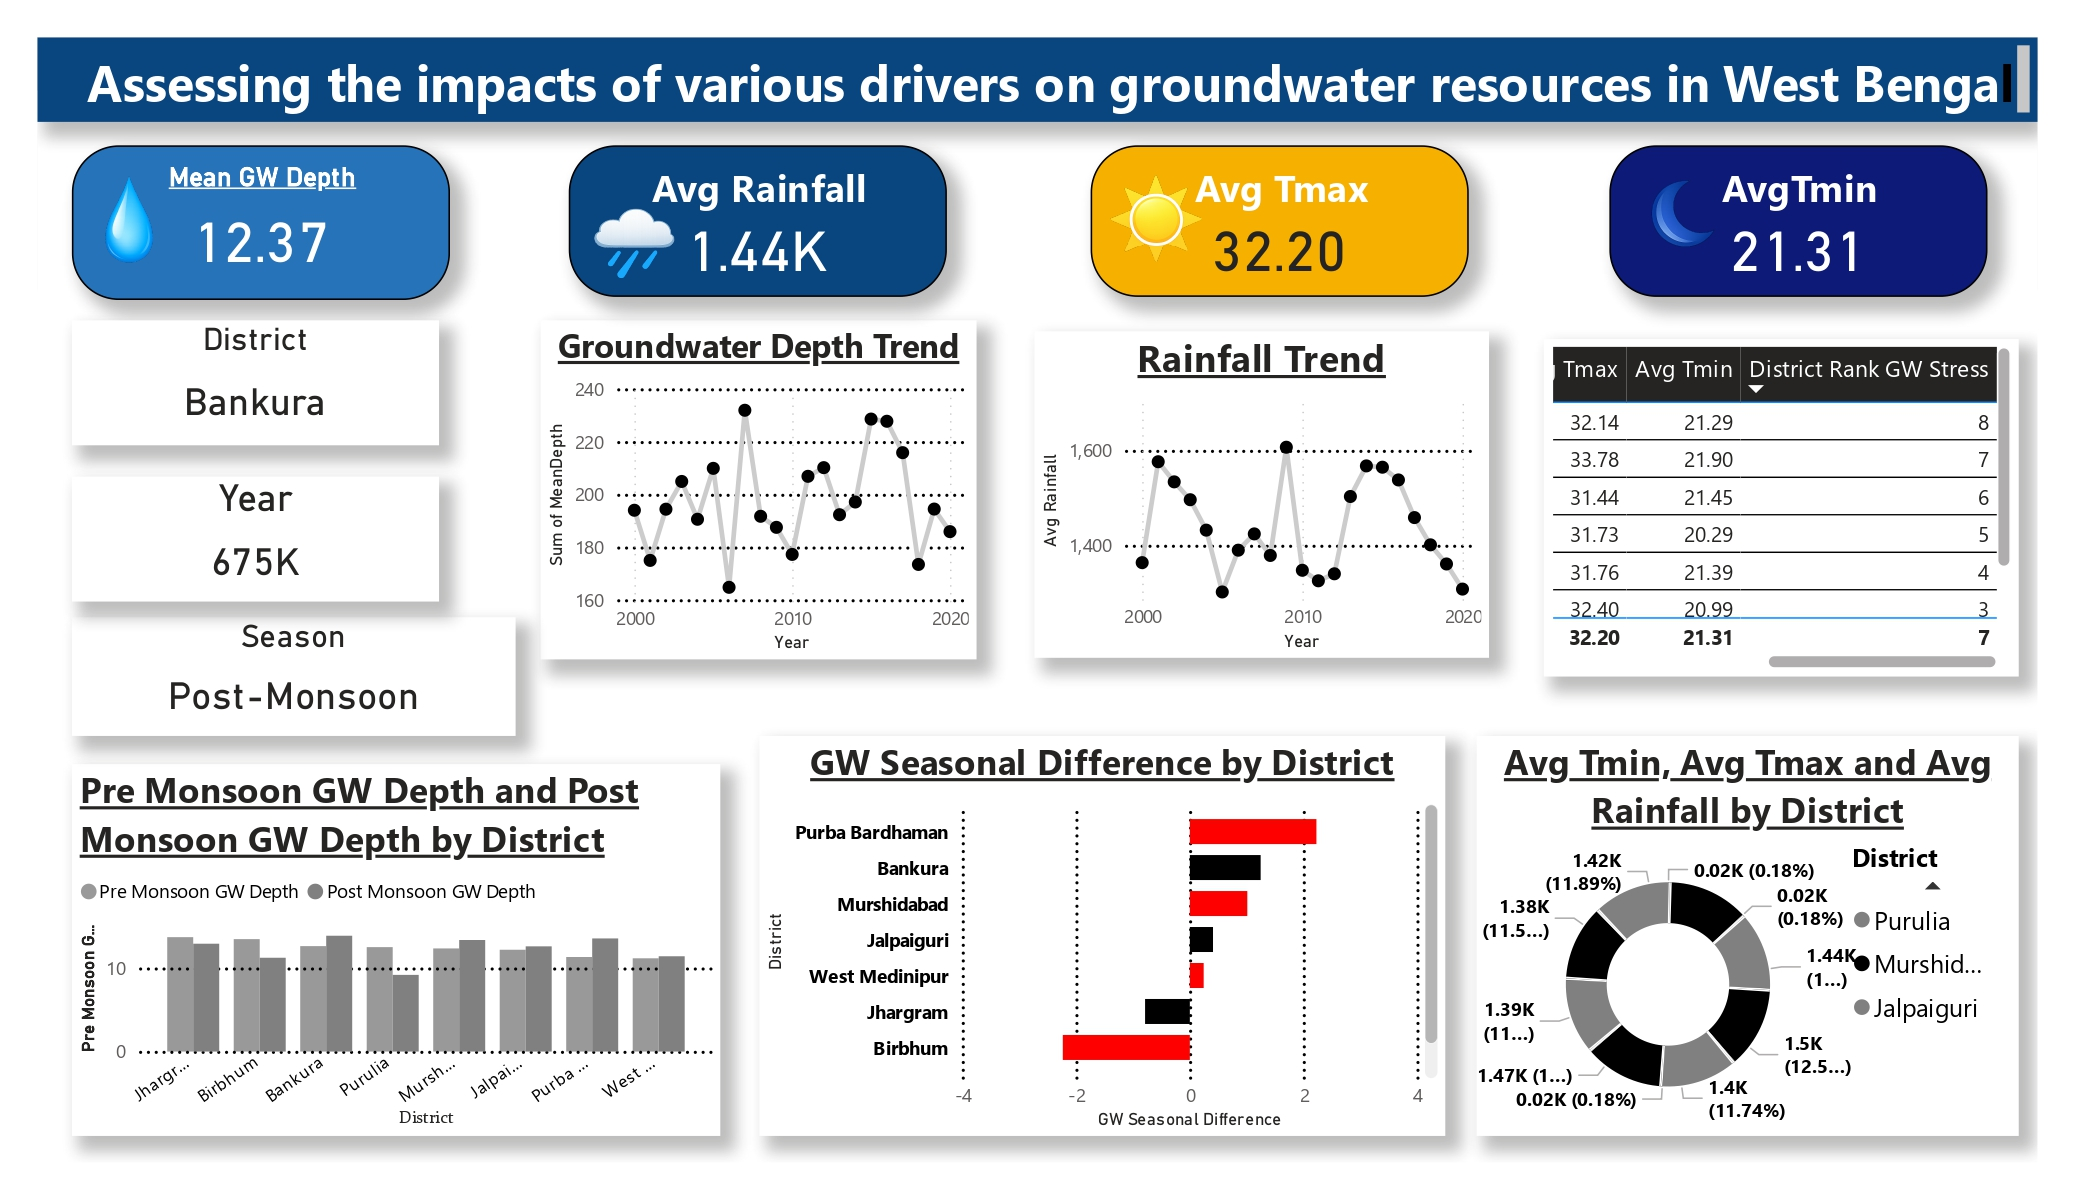

What the dashboard file says about the page in this screenshot:
{"tool":"powerbi","page":{"name":"Page 1","canvas":[1280,720],"ordinal":0},"visuals":[{"type":"lineChart","title":"Groundwater Depth Trend","fields":{"Category":["ground_sql.Year"],"Y":["Sum(ground_sql.MeanDepth)"]},"box":[321.7,181.2,279.4,216.7],"z":0},{"type":"textbox","box":[0,0,1280,54.2],"z":1000},{"type":"card","title":"Mean GW Depth","fields":{"Values":["ground_sql.Mean GW Depth"]},"box":[22,69.4,242.1,98.2],"z":2000},{"type":"image","box":[0,13.5,116.8,208.3],"z":3000},{"type":"card","title":"   Avg Rainfall","fields":{"Values":["ground_sql.Avg Rainfall"]},"box":[340.3,69.4,242.1,96.5],"z":4000},{"type":"card","title":"Avg Tmax","fields":{"Values":["ground_sql.Avg Tmax"]},"box":[673.9,69.4,242.1,96.5],"z":5000},{"type":"card","title":"AvgTmin","fields":{"Values":["ground_sql.Avg Tmin"]},"box":[1005.7,69.4,242.1,96.5],"z":6000},{"type":"image","box":[640,69.4,152.4,98.2],"z":7000},{"type":"image","box":[929.5,42.3,242.1,150.7],"z":8000},{"type":"image","box":[299.7,83,162.5,98.2],"z":9000},{"type":"lineChart","title":"Rainfall Trend ","fields":{"Category":["ground_sql.Year"],"Y":["ground_sql.Avg Rainfall"]},"box":[638.3,187.8,290.9,209.5],"z":10000},{"type":"clusteredColumnChart","fields":{"Category":["ground_sql.District"],"Y":["ground_sql.Pre Monsoon GW Depth","ground_sql.Post Monsoon GW Depth"]},"box":[21.6,465.5,415.6,237.7],"z":11000},{"type":"tableEx","fields":{"Values":["ground_sql.District","ground_sql.Mean GW Depth","ground_sql.Avg Tmax","ground_sql.Avg Tmin","ground_sql.District Rank GW Stress"]},"box":[964.2,192.8,304.2,216.1],"z":12000},{"type":"card","title":"Season","fields":{"Values":["Min(ground_sql.Season)"]},"box":[22,370.8,284.4,76.2],"z":13000},{"type":"donutChart","fields":{"Category":["ground_sql.District"],"Y":["ground_sql.Avg Tmin","ground_sql.Avg Tmax","ground_sql.Avg Rainfall"]},"box":[920.9,447.2,347.4,256],"z":14000},{"type":"slicer","title":"District","fields":{"Values":["ground_sql.District"]},"box":[16,176,240,96],"z":15000},{"type":"card","title":"Year","fields":{"Values":["Sum(ground_sql.Year)"]},"box":[22,281.1,235.3,79.6],"z":16000},{"type":"clusteredBarChart","fields":{"Category":["ground_sql.District"],"Y":["ground_sql.GW Seasonal Difference"]},"box":[462.1,447.2,438.9,256],"z":17000}]}

Visuals, with their boxes on the page's 1280x720 design canvas (x1, y1, x2, y2). These are canvas units, not pixel positions in the 2075x1200 screenshot, which may show the page scaled, cropped or inside an application window:
"Groundwater Depth Trend" lineChart: box(322, 181, 601, 398)
textbox: box(0, 0, 1280, 54)
"Mean GW Depth" card: box(22, 69, 264, 168)
image: box(0, 14, 117, 222)
"   Avg Rainfall" card: box(340, 69, 582, 166)
"Avg Tmax" card: box(674, 69, 916, 166)
"AvgTmin" card: box(1006, 69, 1248, 166)
image: box(640, 69, 792, 168)
image: box(930, 42, 1172, 193)
image: box(300, 83, 462, 181)
"Rainfall Trend " lineChart: box(638, 188, 929, 397)
clusteredColumnChart - ground_sql.District x ground_sql.Pre Monsoon GW Depth: box(22, 466, 437, 703)
tableEx - ground_sql.District x ground_sql.Mean GW Depth: box(964, 193, 1268, 409)
"Season" card: box(22, 371, 306, 447)
donutChart - ground_sql.District x ground_sql.Avg Tmin: box(921, 447, 1268, 703)
"District" slicer: box(16, 176, 256, 272)
"Year" card: box(22, 281, 257, 361)
clusteredBarChart - ground_sql.District x ground_sql.GW Seasonal Difference: box(462, 447, 901, 703)
